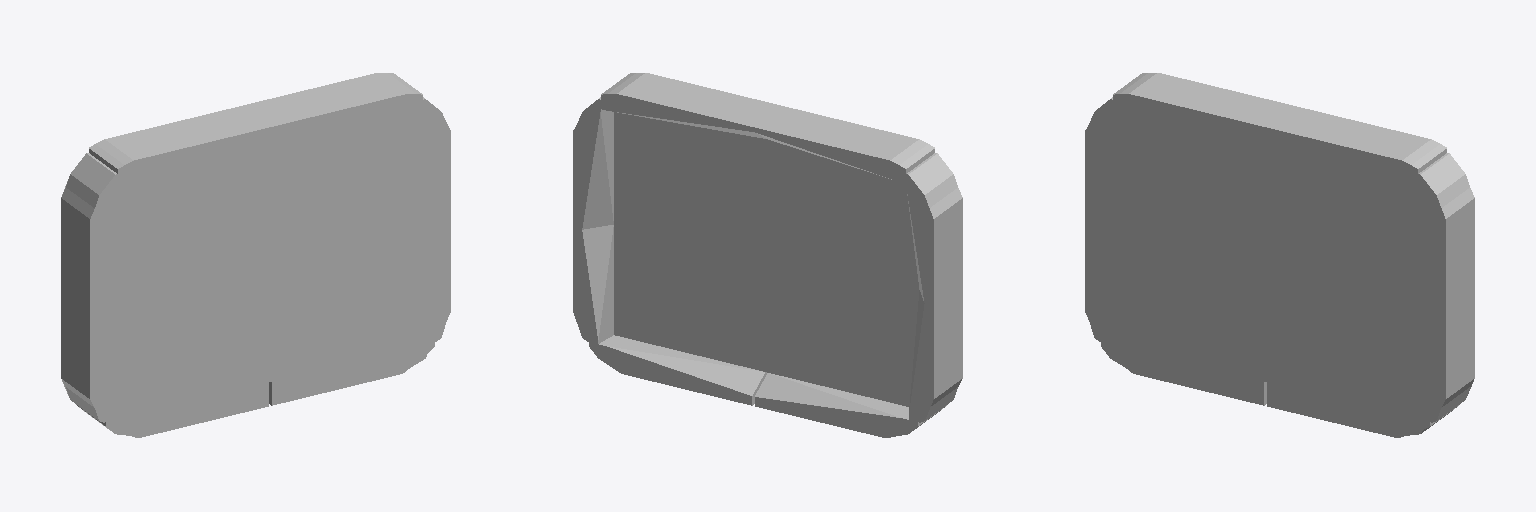
Rendered from Suture Practice Platform Small_hull_9.OBJ.
3 views of the same model, side by side, from view 1: azimuth 30°, elevation 25°; view 2: azimuth 150°, elevation 25°; view 3: azimuth 330°, elevation 25° (orthographic).
Visible parts, largest first — view 1: Suture_Practice_Platform_Small_hull_9; view 2: Suture_Practice_Platform_Small_hull_9; view 3: Suture_Practice_Platform_Small_hull_9.
Boxes of the visible parts, x1,y1,x2,y2 form: Suture_Practice_Platform_Small_hull_9: [61, 73, 450, 437]; Suture_Practice_Platform_Small_hull_9: [573, 73, 962, 437]; Suture_Practice_Platform_Small_hull_9: [1085, 73, 1474, 437].
Size of the model in its own units: 0.0002 by 0.0001 by 0.